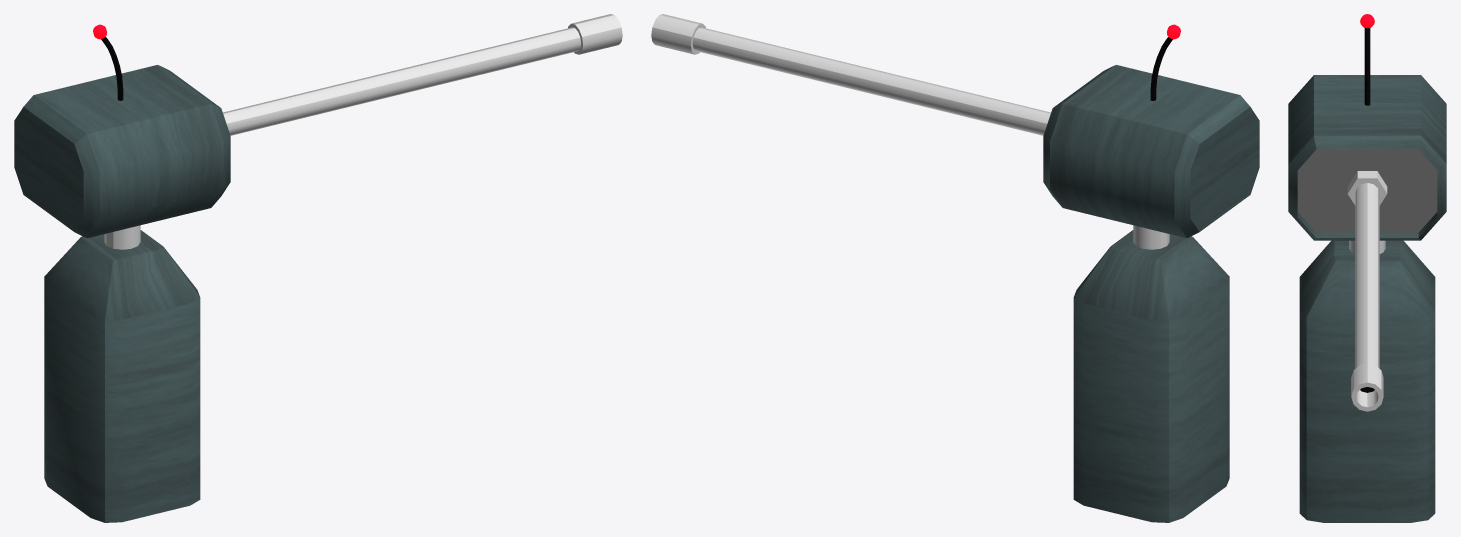
Rendered from turret_sniper.glb.
3 renders of one model, left to right at view 1: azimuth 30°, elevation 25°; view 2: azimuth 150°, elevation 25°; view 3: azimuth 270°, elevation 25°, orthographic.
Visible parts, largest first — view 1: Base, Head, Cannon; view 2: Base, Head, Cannon; view 3: Base, Head, Cannon, Sphere.
Boxes of the visible parts, left/top/right/bottom form: Base: left=44, top=225, right=200, bottom=522; Head: left=14, top=65, right=230, bottom=238; Cannon: left=223, top=14, right=622, bottom=135; Base: left=1073, top=225, right=1229, bottom=522; Head: left=1043, top=65, right=1259, bottom=238; Cannon: left=651, top=14, right=1050, bottom=135; Base: left=1299, top=240, right=1435, bottom=522; Head: left=1288, top=75, right=1446, bottom=240; Cannon: left=1347, top=171, right=1387, bottom=411; Sphere: left=1360, top=14, right=1374, bottom=105.
Bounding box in the file's own units: 7.7 × 6.11 × 1.86.
5 materials, 1 textured.
